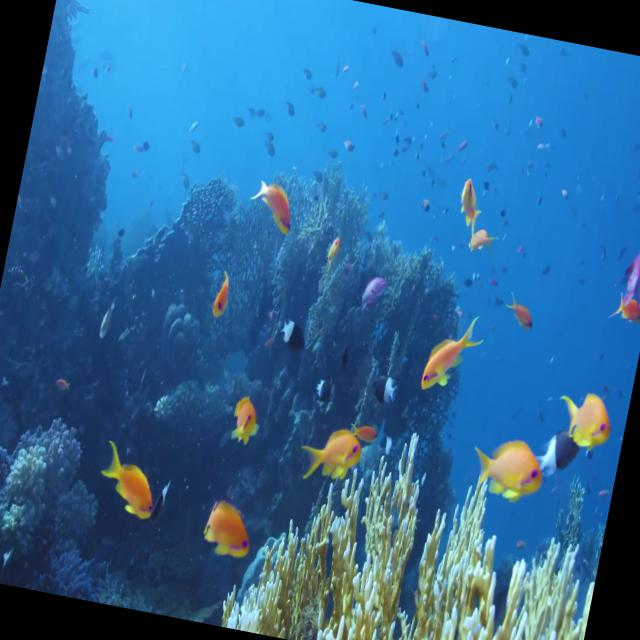fish: (418, 312, 482, 402), (470, 434, 552, 500), (95, 450, 166, 524), (299, 418, 365, 497), (554, 388, 614, 458), (198, 502, 260, 560), (254, 172, 300, 230), (230, 392, 269, 448)
